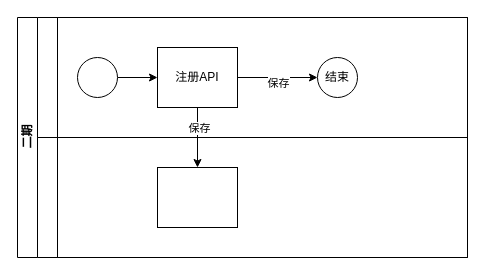
Image size: 485x275. Some labels were removed from this diagram. The box of each missing label's shape, as (x1, y1, x2, y2) in pixels:
数据安全: (36, 136, 468, 258)
数据市场: (36, 16, 468, 138)
